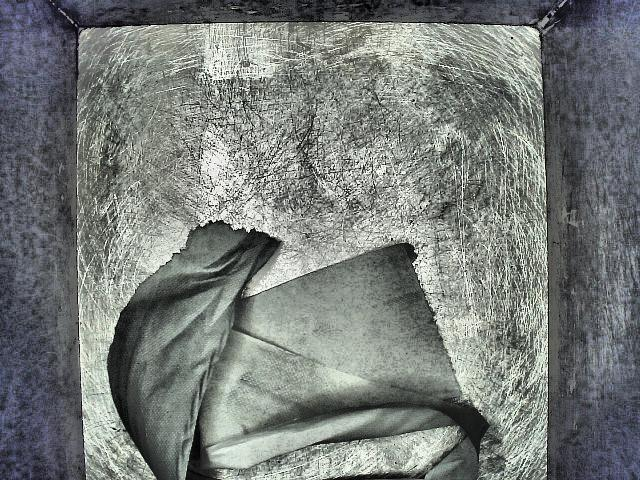Paper: (93, 203, 493, 480)
